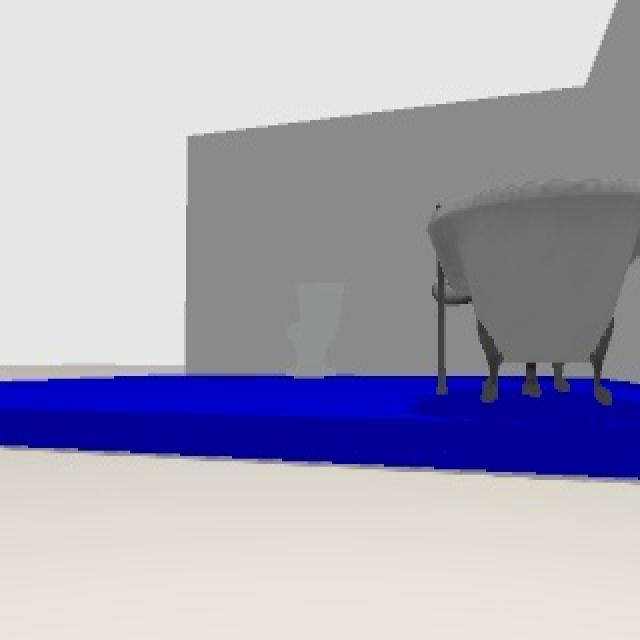bathtub: (426, 181, 638, 405)
